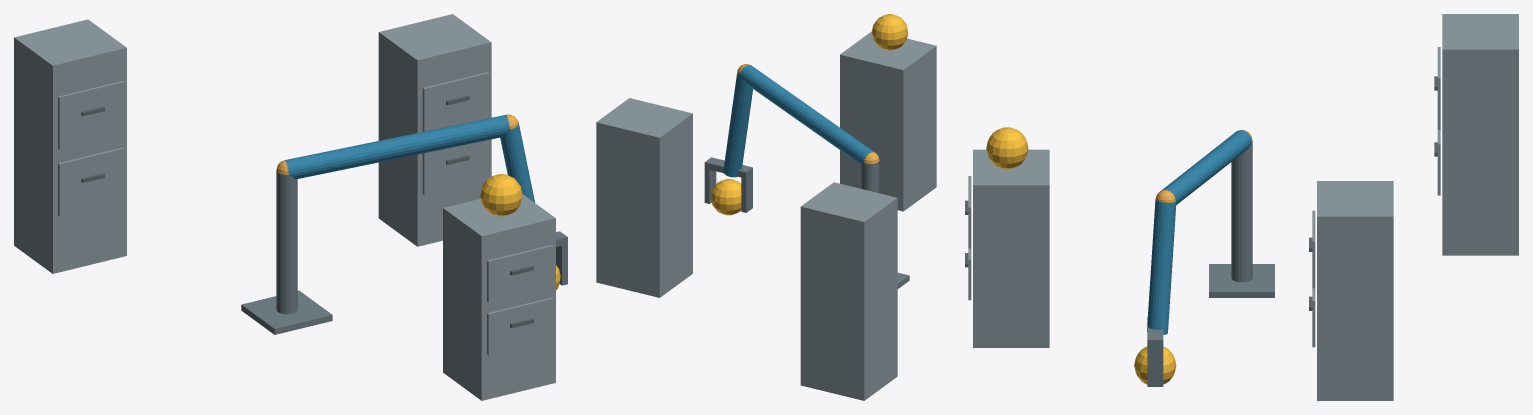
3 renders of one model, left to right at view 1: azimuth 30°, elevation 25°; view 2: azimuth 150°, elevation 25°; view 3: azimuth 270°, elevation 25°, orthographic. The views are drawn at different scales.
Visible parts, largest first — view 1: cabinet_3 body, cabinet_1 body, cabinet_2 body, moving link 1, cabinet_3 drawer front.001, cabinet_3 drawer front, fixed post, cabinet_2 drawer front.001, cabinet_1 drawer front, cabinet_1 drawer front.001, cabinet_2 drawer front, pedestal (+2 smaller); view 2: cabinet_3 body, cabinet_2 body, cabinet_1 body, moving link 1, moving link 2, released ball_1, ball ball_2, fixed post, gripper bridge, gripper finger -1, gripper finger 1; view 3: cabinet_3 body, cabinet_2 body, cabinet_1 body, fixed post, moving link 2, moving link 1, pedestal, released ball_1, ball ball_2, gripper finger 1.
Part boxes in pixels (bbox=[...]): cabinet_3 body: bbox=[14, 19, 126, 273]; cabinet_1 body: bbox=[443, 194, 555, 400]; cabinet_2 body: bbox=[378, 14, 491, 246]; moving link 1: bbox=[285, 114, 510, 179]; cabinet_3 drawer front.001: bbox=[58, 80, 124, 149]; cabinet_3 drawer front: bbox=[58, 147, 124, 216]; fixed post: bbox=[276, 171, 297, 314]; cabinet_2 drawer front.001: bbox=[422, 72, 489, 131]; cabinet_1 drawer front: bbox=[487, 297, 553, 355]; cabinet_1 drawer front.001: bbox=[487, 244, 553, 302]; cabinet_2 drawer front: bbox=[422, 140, 489, 195]; pedestal: bbox=[241, 290, 332, 334]; cabinet_3 body: bbox=[800, 182, 897, 400]; cabinet_2 body: bbox=[596, 98, 692, 297]; cabinet_1 body: bbox=[840, 31, 936, 211]; moving link 1: bbox=[739, 65, 874, 164]; moving link 2: bbox=[723, 72, 752, 177]; released ball_1: bbox=[872, 14, 908, 50]; ball ball_2: bbox=[710, 178, 741, 215]; fixed post: bbox=[861, 161, 879, 193]; gripper bridge: bbox=[704, 157, 752, 178]; gripper finger -1: bbox=[741, 174, 752, 212]; gripper finger 1: bbox=[704, 168, 716, 203]; cabinet_3 body: bbox=[1442, 14, 1518, 255]; cabinet_2 body: bbox=[1317, 181, 1393, 400]; cabinet_1 body: bbox=[973, 149, 1049, 347]; fixed post: bbox=[1231, 140, 1252, 282]; moving link 2: bbox=[1147, 199, 1176, 334]; moving link 1: bbox=[1160, 130, 1251, 204]; pedestal: bbox=[1209, 264, 1274, 297]; released ball_1: bbox=[986, 127, 1028, 169]; ball ball_2: bbox=[1134, 346, 1176, 384]; gripper finger 1: bbox=[1147, 347, 1163, 386].
Bounding box in the file's own units: 1.62 × 0.86 × 2.1.
